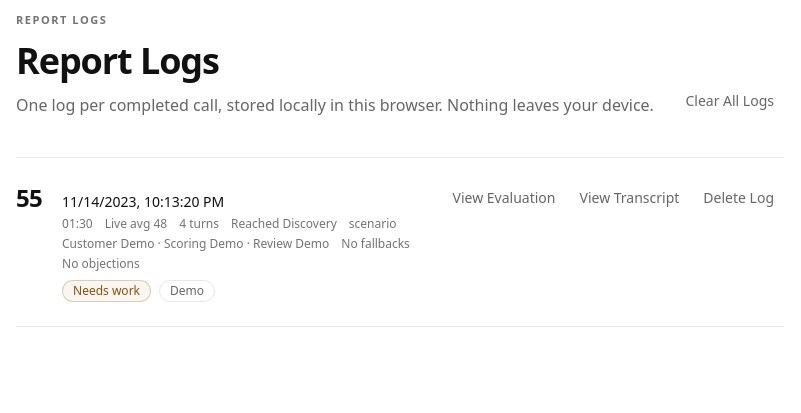
Test: SessionHistory — deletion › requires confirmation before deleting a session
Click the button with aria-label "Delete log from" at (739,198), box x1=693 y1=182 x2=784 y2=214
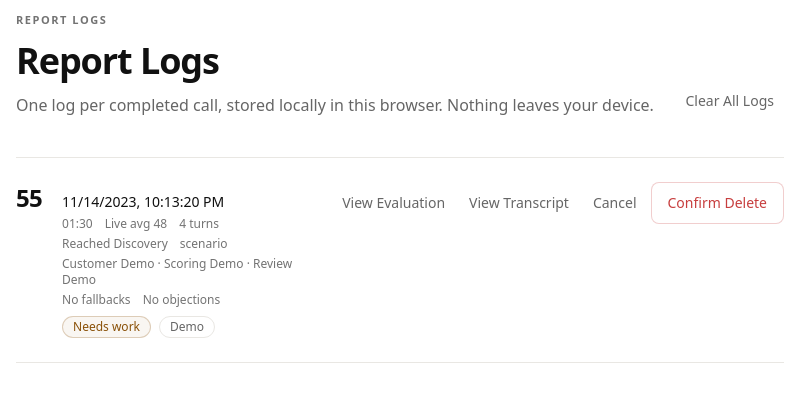
Result: the button "Confirm Delete" is shown
Click the button "Confirm Delete" at (717,202), box x1=650 y1=182 x2=784 y2=224
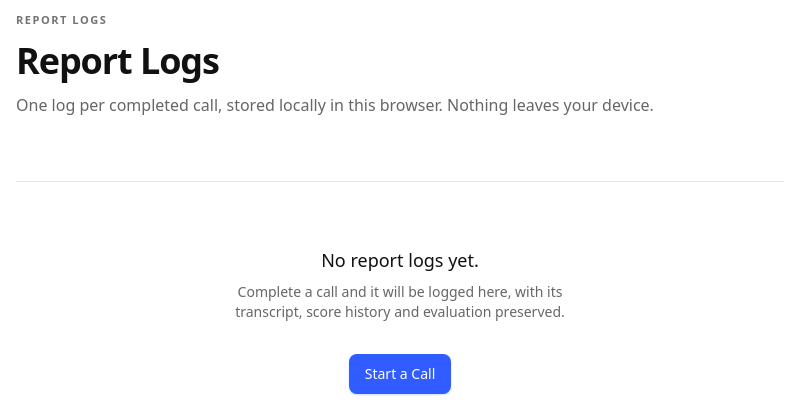
Result: the text "No report logs yet." is shown at x1=321 y1=248 x2=479 y2=272
